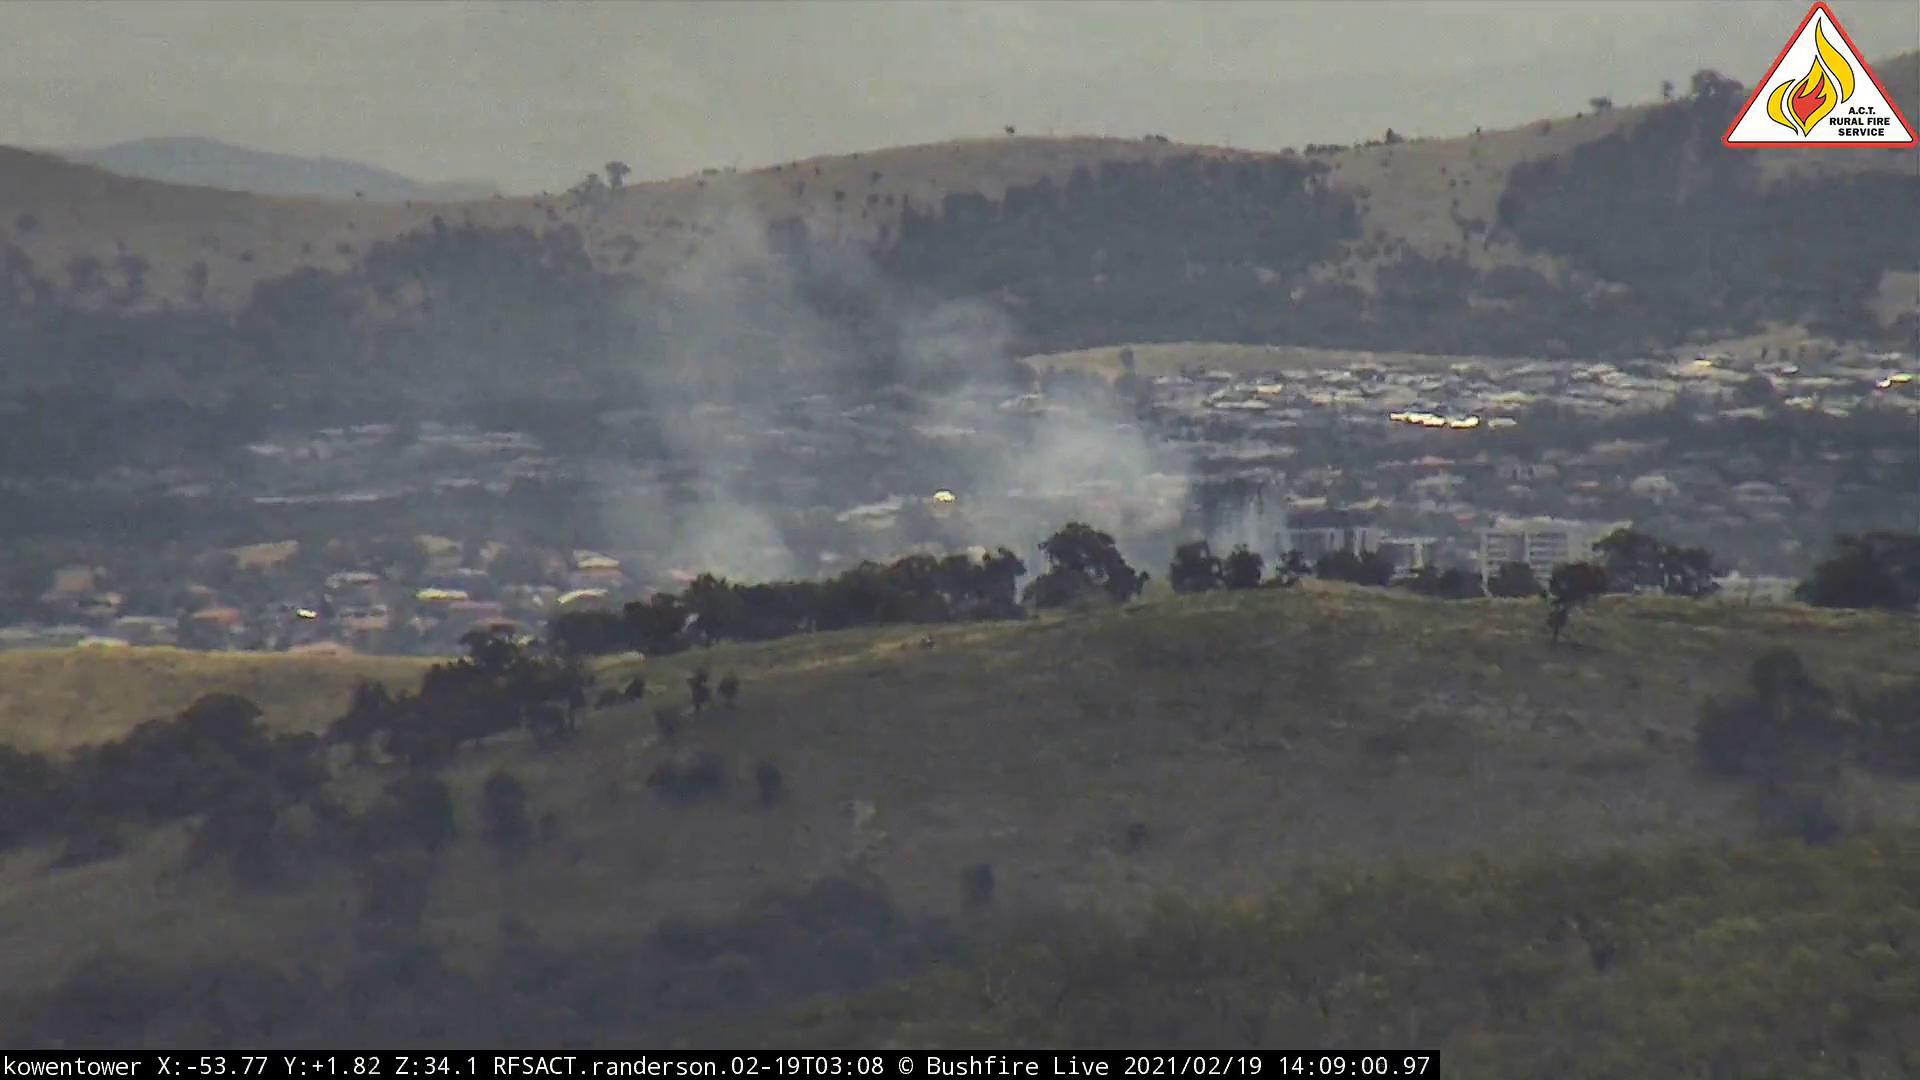Smoke: (413, 105, 1273, 612)
